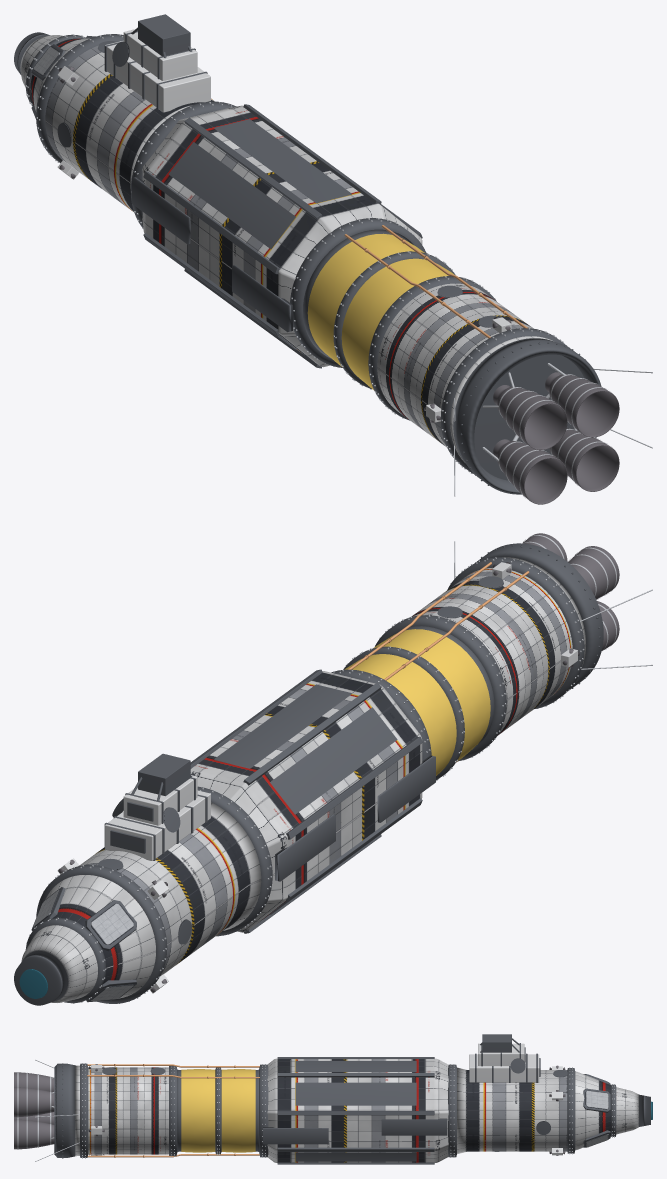
The model's file is cm32_missile_cruiser_bare.glb.
3 views of the same model, one above another, from view 1: azimuth 30°, elevation 25°; view 2: azimuth 150°, elevation 25°; view 3: azimuth 270°, elevation 25° (orthographic). The views are drawn at different scales.
Parts seen in each view (by area): view 1: CM32_Hull_VLS_Octagonal_Drum, CM32_Hardpoint_Mounting_Pads, CM32_Structural_Flange_Rings, CM32_Quad_Engine_Nozzles, CM32_Hull_Forward_Bus, CM32_Hull_Aft_Bus, CM32_Reactor_Gold_MLI, CM32_Drive_Bulkhead_Skirt, CM32_VLS_Drum_Armor_Strakes, CM32_FireControl_Radar_Tower, CM32_FireControl_Tower_Armor_Trim, CM32_Nozzle_Cooling_Bands (+4 smaller); view 2: CM32_Hull_Forward_Bus, CM32_Hull_VLS_Octagonal_Drum, CM32_Hardpoint_Mounting_Pads, CM32_Structural_Flange_Rings, CM32_Hull_Aft_Bus, CM32_Reactor_Gold_MLI, CM32_VLS_Drum_Armor_Strakes, CM32_FireControl_Radar_Tower, CM32_Drive_Bulkhead_Skirt, CM32_FireControl_Tower_Armor_Trim, CM32_Quad_Engine_Nozzles, CM32_Bow_Armored_SensorCap (+6 smaller); view 3: CM32_Hull_Forward_Bus, CM32_Hull_VLS_Octagonal_Drum, CM32_Hardpoint_Mounting_Pads, CM32_Hull_Aft_Bus, CM32_Reactor_Gold_MLI, CM32_Structural_Flange_Rings, CM32_VLS_Drum_Armor_Strakes, CM32_Quad_Engine_Nozzles, CM32_Drive_Bulkhead_Skirt, CM32_FireControl_Radar_Tower, CM32_External_Copper_Pipes, CM32_FireControl_Tower_Armor_Trim (+7 smaller).
Boxes of the visible parts, <box> form: CM32_Hull_VLS_Octagonal_Drum: <box>142,105,422,367</box>; CM32_Hardpoint_Mounting_Pads: <box>57,41,499,349</box>; CM32_Structural_Flange_Rings: <box>25,34,567,474</box>; CM32_Quad_Engine_Nozzles: <box>493,372,619,504</box>; CM32_Hull_Forward_Bus: <box>20,35,214,211</box>; CM32_Hull_Aft_Bus: <box>377,283,553,462</box>; CM32_Reactor_Gold_MLI: <box>307,233,454,389</box>; CM32_Drive_Bulkhead_Skirt: <box>453,338,601,494</box>; CM32_VLS_Drum_Armor_Strakes: <box>143,104,422,368</box>; CM32_FireControl_Radar_Tower: <box>105,29,210,112</box>; CM32_FireControl_Tower_Armor_Trim: <box>104,14,207,109</box>; CM32_Nozzle_Cooling_Bands: <box>498,374,612,501</box>; CM32_Hull_Forward_Bus: <box>21,802,261,1002</box>; CM32_Hull_VLS_Octagonal_Drum: <box>190,671,422,932</box>; CM32_Hardpoint_Mounting_Pads: <box>98,576,503,944</box>; CM32_Structural_Flange_Rings: <box>25,557,584,1003</box>; CM32_Hull_Aft_Bus: <box>411,557,586,735</box>; CM32_Reactor_Gold_MLI: <box>344,629,490,775</box>; CM32_VLS_Drum_Armor_Strakes: <box>190,669,422,933</box>; CM32_FireControl_Radar_Tower: <box>105,775,210,860</box>; CM32_Drive_Bulkhead_Skirt: <box>475,543,603,689</box>; CM32_FireControl_Tower_Armor_Trim: <box>104,753,207,860</box>; CM32_Quad_Engine_Nozzles: <box>522,533,619,650</box>; CM32_Bow_Armored_SensorCap: <box>14,950,68,1005</box>; CM32_Hull_Forward_Bus: <box>457,1067,638,1153</box>; CM32_Hull_VLS_Octagonal_Drum: <box>267,1058,448,1162</box>; CM32_Hardpoint_Mounting_Pads: <box>102,1058,567,1161</box>; CM32_Hull_Aft_Bus: <box>75,1065,168,1156</box>; CM32_Reactor_Gold_MLI: <box>181,1069,255,1152</box>; CM32_Structural_Flange_Rings: <box>80,1063,616,1157</box>; CM32_VLS_Drum_Armor_Strakes: <box>277,1057,434,1164</box>; CM32_Quad_Engine_Nozzles: <box>14,1072,54,1149</box>; CM32_Drive_Bulkhead_Skirt: <box>54,1063,75,1158</box>; CM32_FireControl_Radar_Tower: <box>469,1043,539,1082</box>; CM32_External_Copper_Pipes: <box>87,1064,259,1157</box>; CM32_FireControl_Tower_Armor_Trim: <box>475,1034,540,1082</box>.
Size of the model in its own units: 12.84 by 12.34 by 60.32.
Materials: 10 (2 with a texture image).
